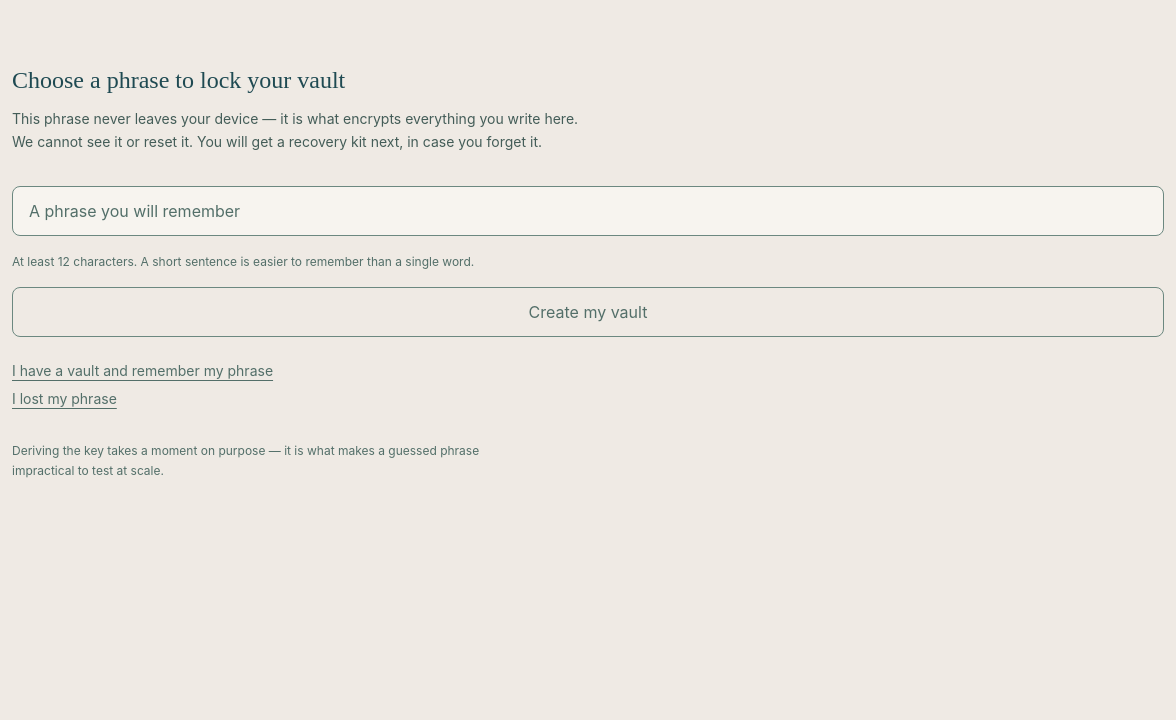
Test: the way back › can be left again
Click the button "I lost my phrase" at (64, 399), box top-left (12, 389), bottom-right (117, 409)
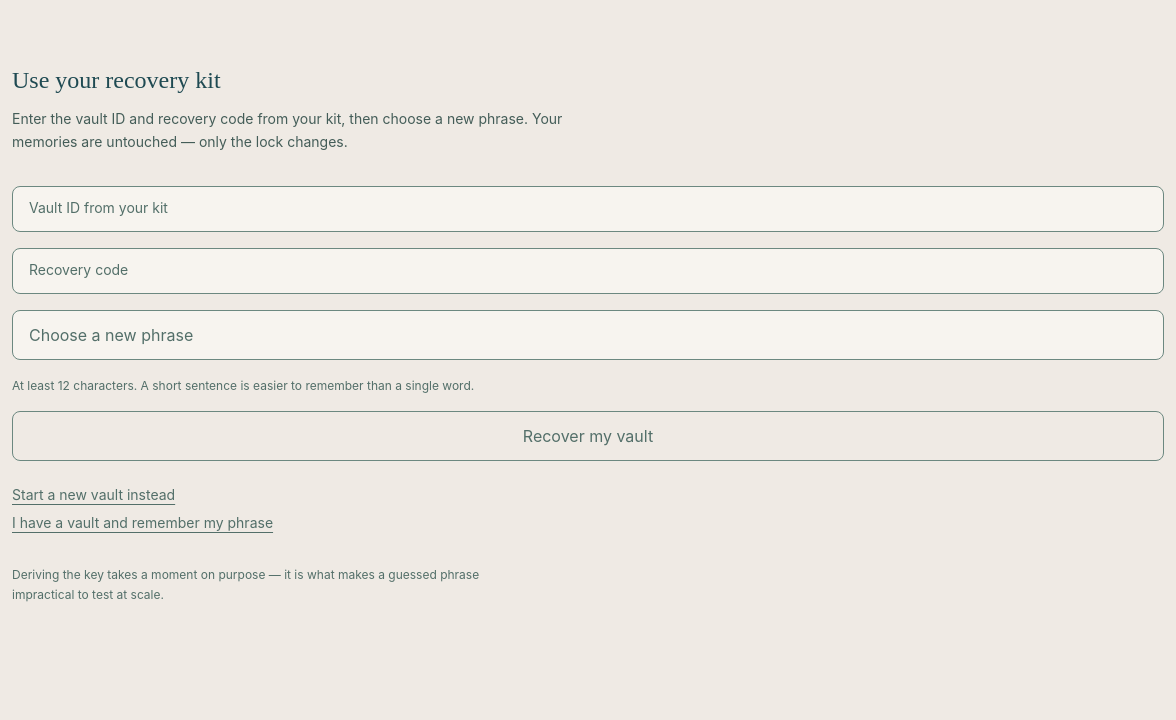
Click the button "I have a vault and remember my phrase" at (143, 523), box top-left (12, 513), bottom-right (273, 533)
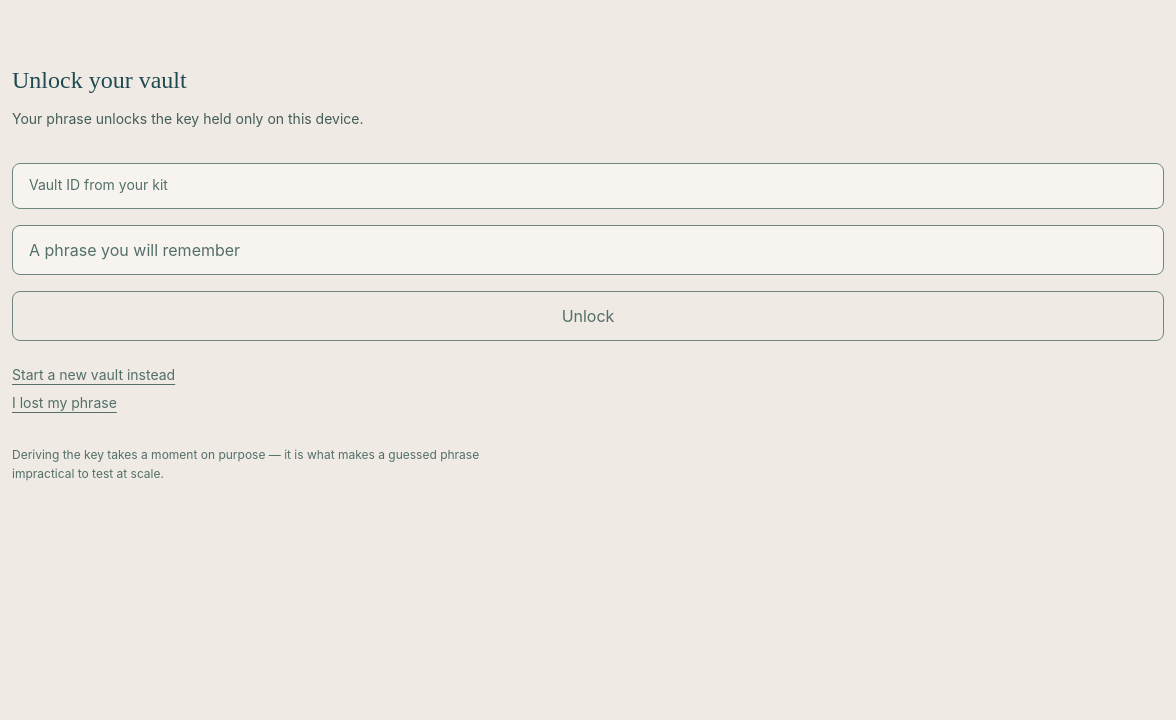
Now the heading "Unlock your vault" is shown, box top-left (12, 67), bottom-right (187, 93)
